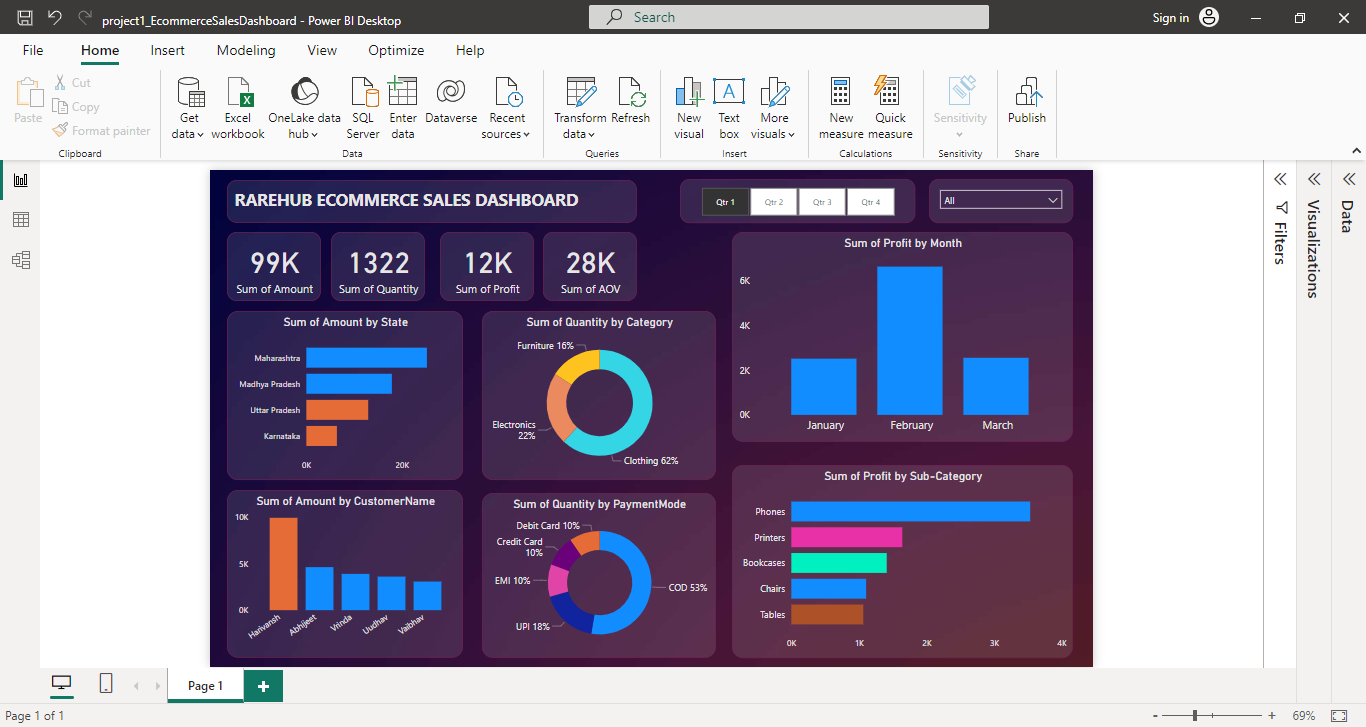

The dashboard page shown, as its layout file describes it:
{"tool":"powerbi","page":{"name":"Page 1","canvas":[1280,720],"ordinal":0},"visuals":[{"type":"columnChart","fields":{"Category":["NewOrders.Order Date.Variation.Date Hierarchy.Month"],"Y":["Details.Profit"]},"box":[756.5,89.9,494.2,304.3],"z":0},{"type":"barChart","fields":{"Category":["Details.Sub-Category"],"Y":["Details.Profit"]},"box":[756.5,427.5,494.2,279.7],"z":1000},{"type":"donutChart","fields":{"Category":["Details.Category"],"Y":["Details.Quantity"]},"box":[394.2,204.3,339.1,244.9],"z":2000},{"type":"donutChart","fields":{"Y":["Details.Quantity"],"Category":["Details.PaymentMode"]},"box":[394.2,468.1,339.1,239.1],"z":3000},{"type":"card","fields":{"Values":["Details.Amount"]},"box":[24.6,89.9,136.2,100],"z":4000},{"type":"card","fields":{"Values":["Details.Quantity"]},"box":[175.4,89.9,136.2,100],"z":5000},{"type":"card","fields":{"Values":["Details.Profit"]},"box":[333.3,89.9,136.2,100],"z":6000},{"type":"card","fields":{"Values":["Details.AOV"]},"box":[482.6,89.9,136.2,100],"z":7000},{"type":"barChart","fields":{"Category":["NewOrders.State"],"Y":["Details.Amount"]},"box":[24.6,204.3,342,244.9],"z":8000},{"type":"columnChart","fields":{"Category":["NewOrders.CustomerName"],"Y":["Details.Amount"]},"box":[24.6,463.8,342,243.5],"z":9000},{"type":"textbox","box":[24.6,14.5,594.2,62.3],"z":9001},{"type":"slicer","fields":{"Values":["NewOrders.Order Date.Variation.Date Hierarchy.Quarter"]},"box":[681.2,13,340.6,63.8],"z":9002},{"type":"slicer","fields":{"Values":["NewOrders.State"]},"box":[1042,13,208.7,63.8],"z":9003}]}

Visuals, with their boxes on the page's 1280x720 design canvas (x1, y1, x2, y2). These are canvas units, not pixel positions in the 1366x727 screenshot, which may show the page scaled, cropped or inside an application window:
columnChart - NewOrders.Order Date.Variation.Date Hierarchy.Month x Details.Profit: (756,90,1251,394)
barChart - Details.Sub-Category x Details.Profit: (756,428,1251,707)
donutChart - Details.Category x Details.Quantity: (394,204,733,449)
donutChart - Details.Quantity x Details.PaymentMode: (394,468,733,707)
card - Details.Amount: (25,90,161,190)
card - Details.Quantity: (175,90,312,190)
card - Details.Profit: (333,90,470,190)
card - Details.AOV: (483,90,619,190)
barChart - NewOrders.State x Details.Amount: (25,204,367,449)
columnChart - NewOrders.CustomerName x Details.Amount: (25,464,367,707)
textbox: (25,14,619,77)
slicer - NewOrders.Order Date.Variation.Date Hierarchy.Quarter: (681,13,1022,77)
slicer - NewOrders.State: (1042,13,1251,77)
